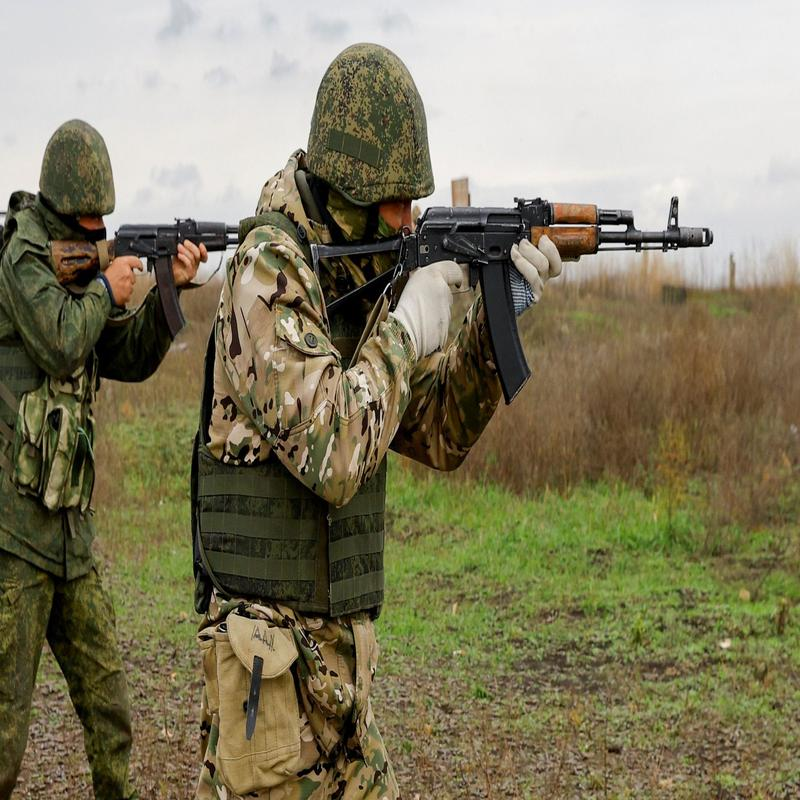GUN: (287, 178, 737, 414), (1, 190, 272, 362)
